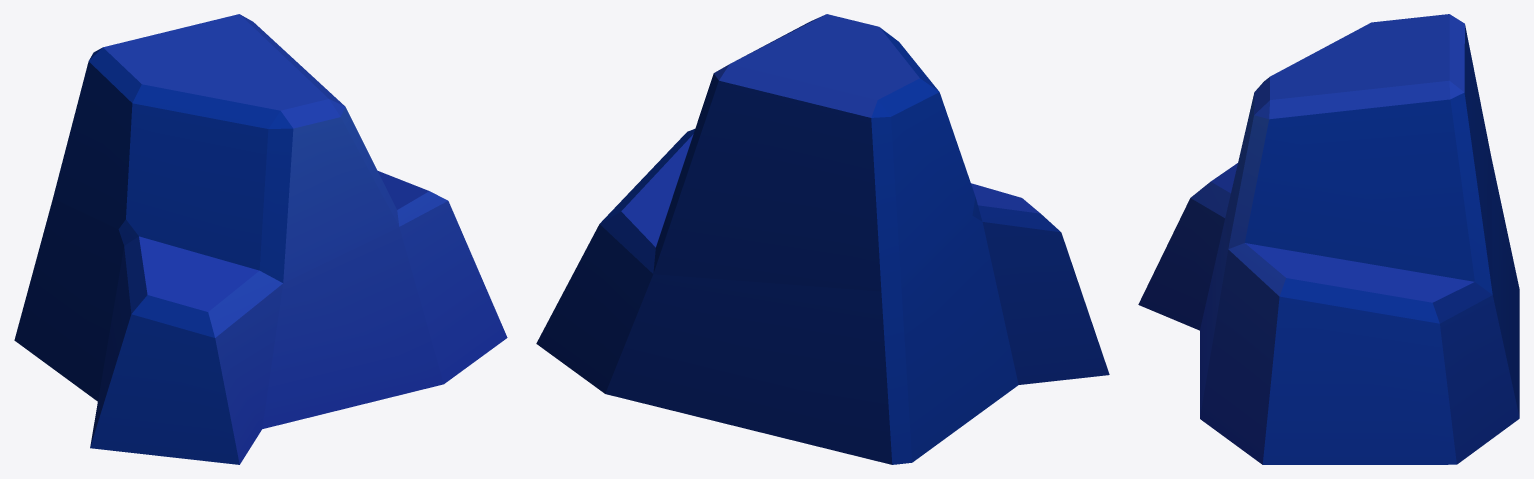
The model's file is Rocher.fbx.
The picture shows the model from 3 angles, left to right: view 1: azimuth 30°, elevation 25°; view 2: azimuth 150°, elevation 25°; view 3: azimuth 270°, elevation 25°; orthographic projection. The views are drawn at different scales.
Parts seen in each view (by area): view 1: Cube; view 2: Cube; view 3: Cube.
Boxes of the visible parts, box(x1,y1,x2,y2) form: Cube: box(14, 14, 507, 464); Cube: box(536, 14, 1109, 464); Cube: box(1138, 14, 1519, 464).
Size of the model in its own units: 307 by 207 by 239.
